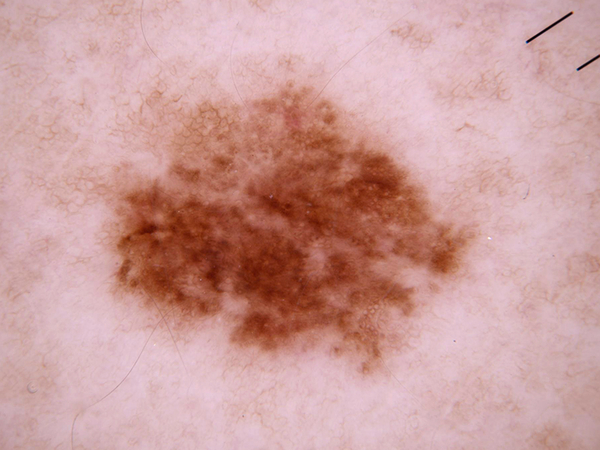Detected Lesion: (102, 93, 481, 378)
